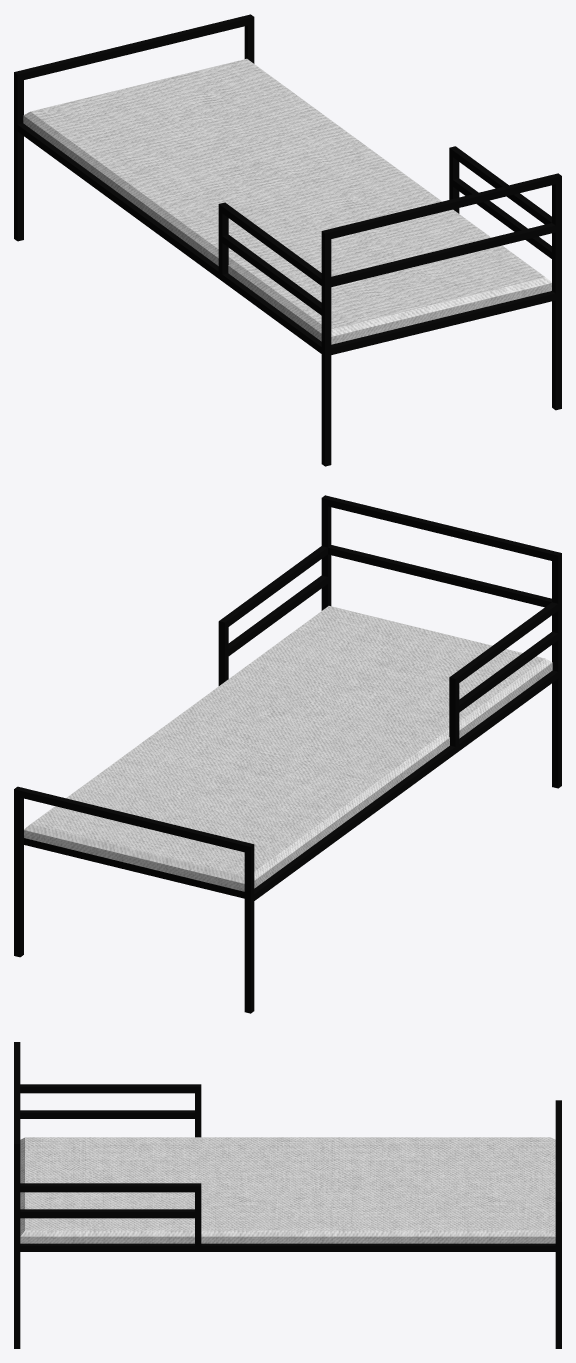
File: bed_top.fbx
The picture shows the model from 3 angles, top to bottom: view 1: azimuth 30°, elevation 25°; view 2: azimuth 150°, elevation 25°; view 3: azimuth 270°, elevation 25°; orthographic projection. The views are drawn at different scales.
Visible parts, largest first — view 1: bed_top; view 2: bed_top; view 3: bed_top.
Boxes of the visible parts, x1,y1,x2,y2 form: bed_top: (14,14,561,466); bed_top: (14,495,561,1013); bed_top: (14,1042,561,1348).
Bounding box in the file's own units: 132 × 124 × 301.
